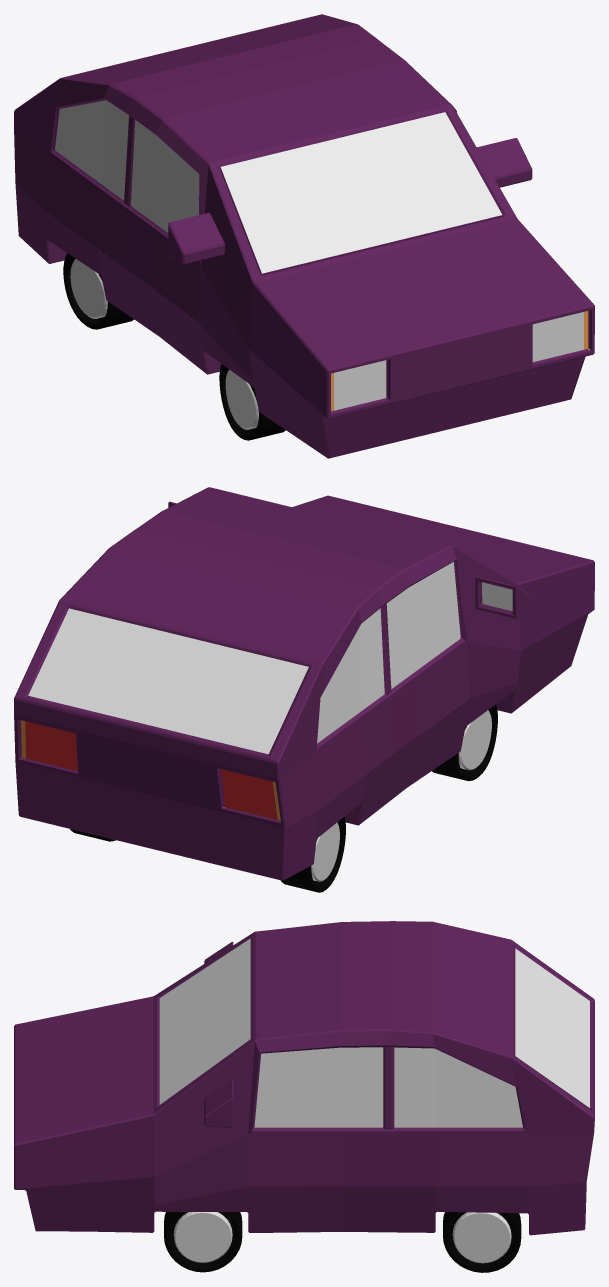
File: Car1.fbx
3 views of the same model, one above another, from view 1: azimuth 30°, elevation 25°; view 2: azimuth 150°, elevation 25°; view 3: azimuth 270°, elevation 25° (orthographic). The views are drawn at different scales.
Visible parts, largest first — view 1: street_car; view 2: street_car; view 3: street_car.
Part boxes in pixels (left/top/right/bottom): street_car: left=14, top=14, right=594, bottom=458; street_car: left=14, top=487, right=594, bottom=892; street_car: left=14, top=921, right=594, bottom=1272.
Size of the model in its own units: 2.65 by 4.13 by 1.92.
